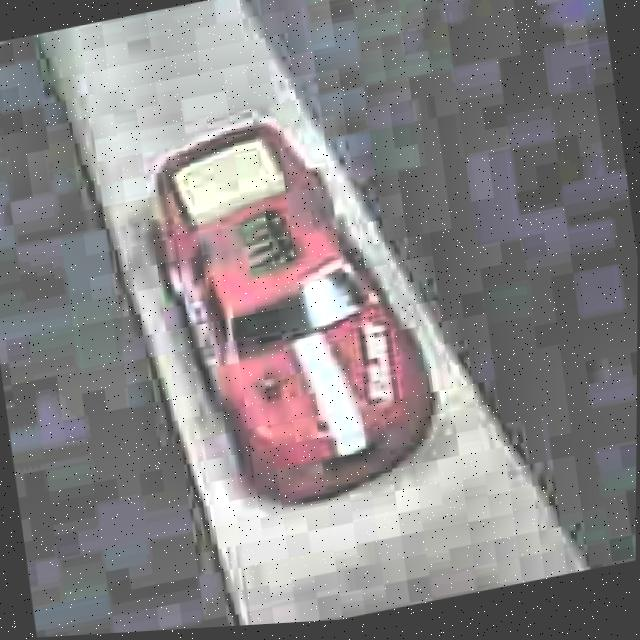car: (133, 88, 454, 540)
